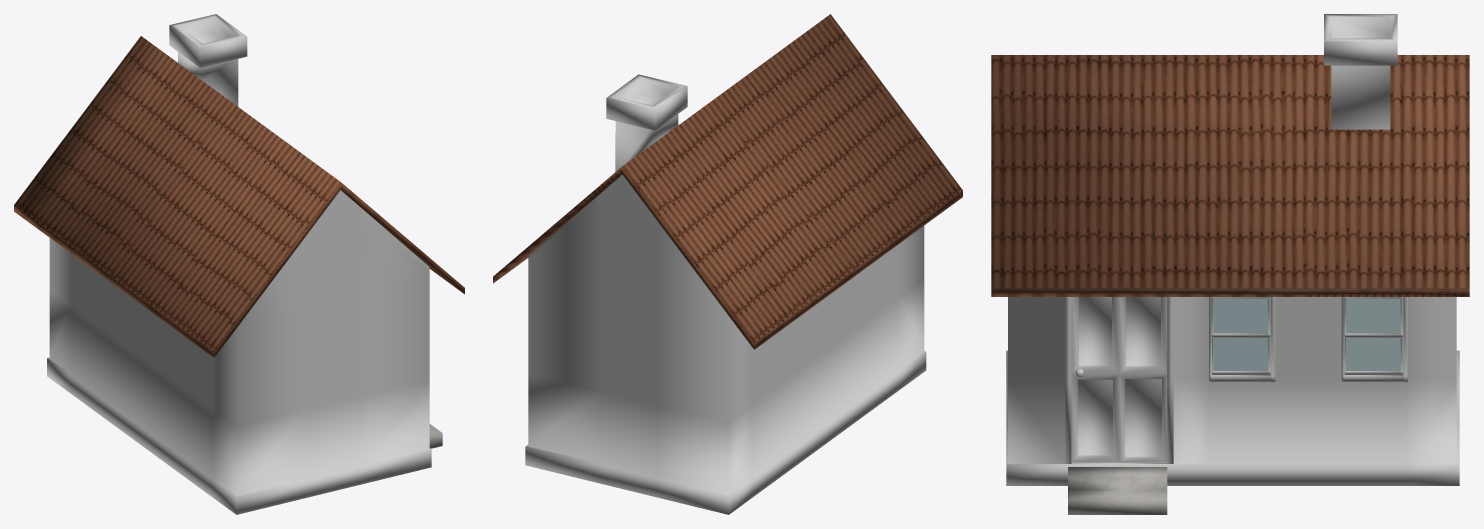
The model's file is casa.fbx.
3 renders of one model, left to right at view 1: azimuth 30°, elevation 25°; view 2: azimuth 150°, elevation 25°; view 3: azimuth 270°, elevation 25°, orthographic. The views are drawn at different scales.
Visible parts, largest first — view 1: Mesh_022, Mesh, Mesh_014; view 2: Mesh_022, Mesh, Mesh_014; view 3: Mesh, Mesh_022, Mesh_017, Mesh_014, Mesh_018, Mesh_013, Mesh_015, Mesh_021, Mesh_019, Mesh_009, Mesh_003.
Boxes of the visible parts, <box> form: Mesh_022: <box>47,190,431,514</box>; Mesh: <box>14,36,464,357</box>; Mesh_014: <box>169,14,247,106</box>; Mesh_022: <box>525,175,926,514</box>; Mesh: <box>493,14,962,349</box>; Mesh_014: <box>606,74,687,171</box>; Mesh: <box>991,55,1469,296</box>; Mesh_022: <box>1006,297,1459,485</box>; Mesh_017: <box>1071,297,1167,462</box>; Mesh_014: <box>1324,14,1397,129</box>; Mesh_018: <box>1068,467,1167,514</box>; Mesh_013: <box>1341,297,1400,380</box>; Mesh_015: <box>1213,298,1267,370</box>; Mesh_021: <box>1209,297,1275,381</box>; Mesh_019: <box>1341,297,1407,381</box>; Mesh_009: <box>1344,297,1403,337</box>; Mesh_003: <box>1212,297,1270,337</box>.
Size of the model in its own units: 3.34 by 4.32 by 4.45.
